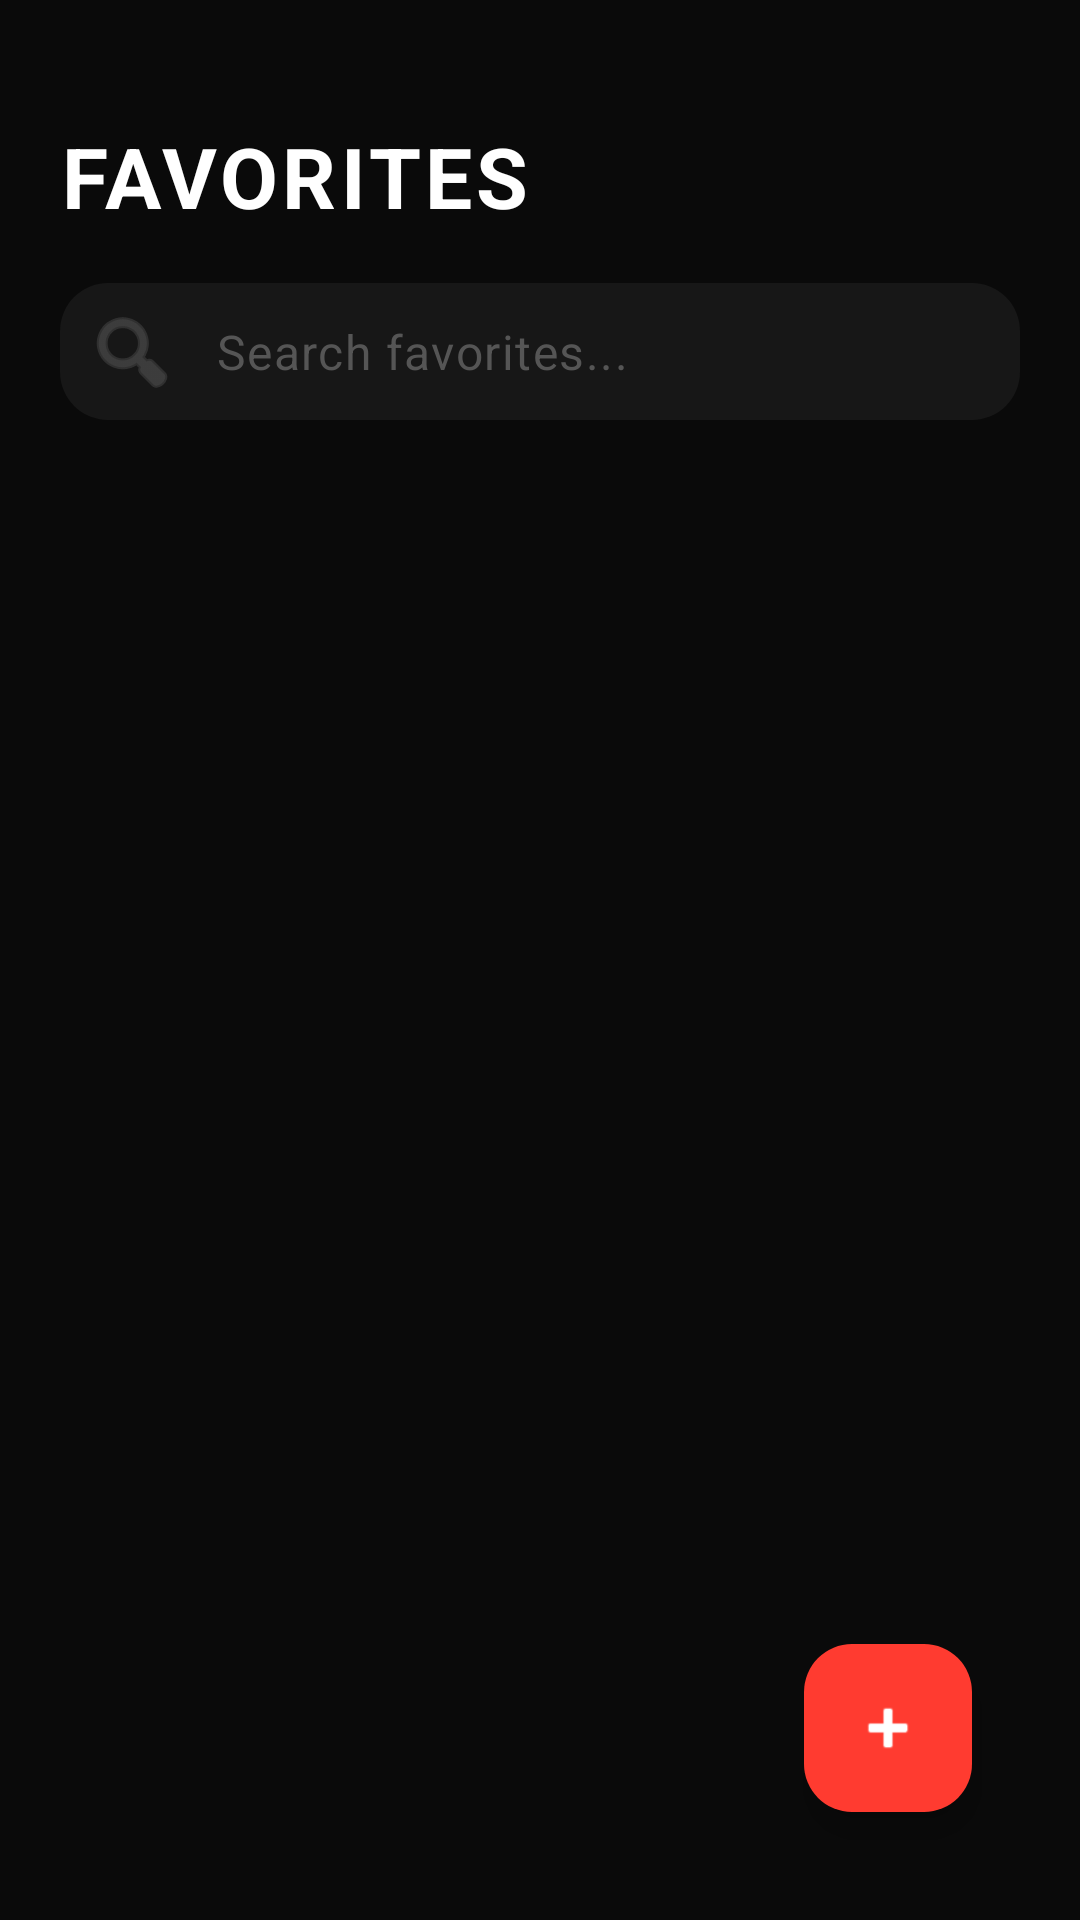

Icon bounding boxes for this 1080*1920 phone screenshot, format box=[x1, y1, x2, y2]:
add: box=[804, 1644, 972, 1812]
